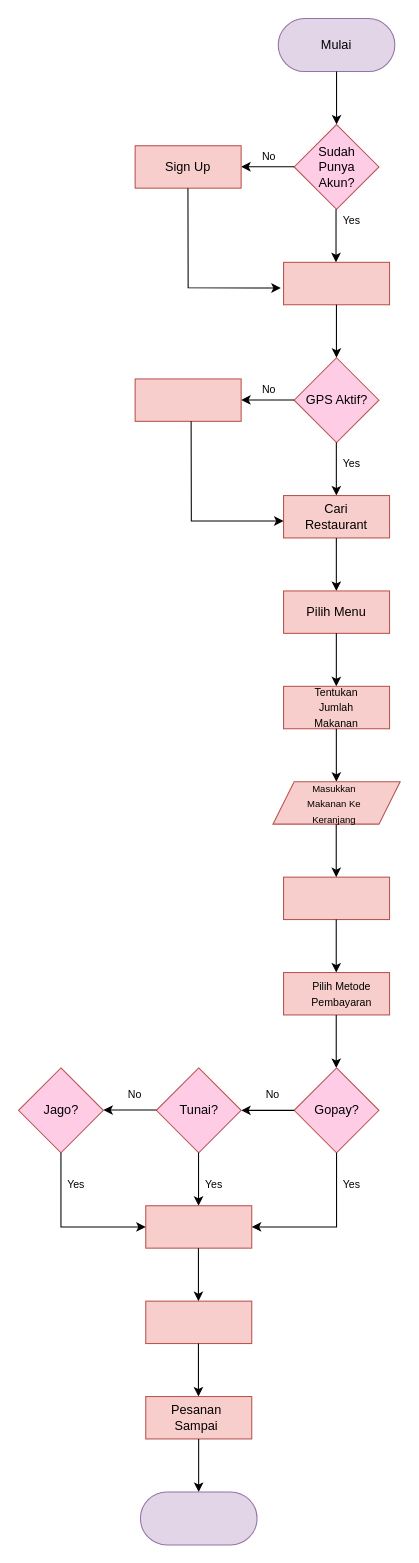
The diagram is 419 pixels wide and 1563 high, and some of its shapes have lost their labels. The shapes that lost their labels are listed below. From the top down, each one's centre as x and y in pixels, then its label:
point (336, 283): Login
point (187, 399): Aktifkan GPS
point (336, 898): Checkout
point (198, 1226): Bayar
point (198, 1322): Menunggu Pesanan
point (198, 1518): Selesai
